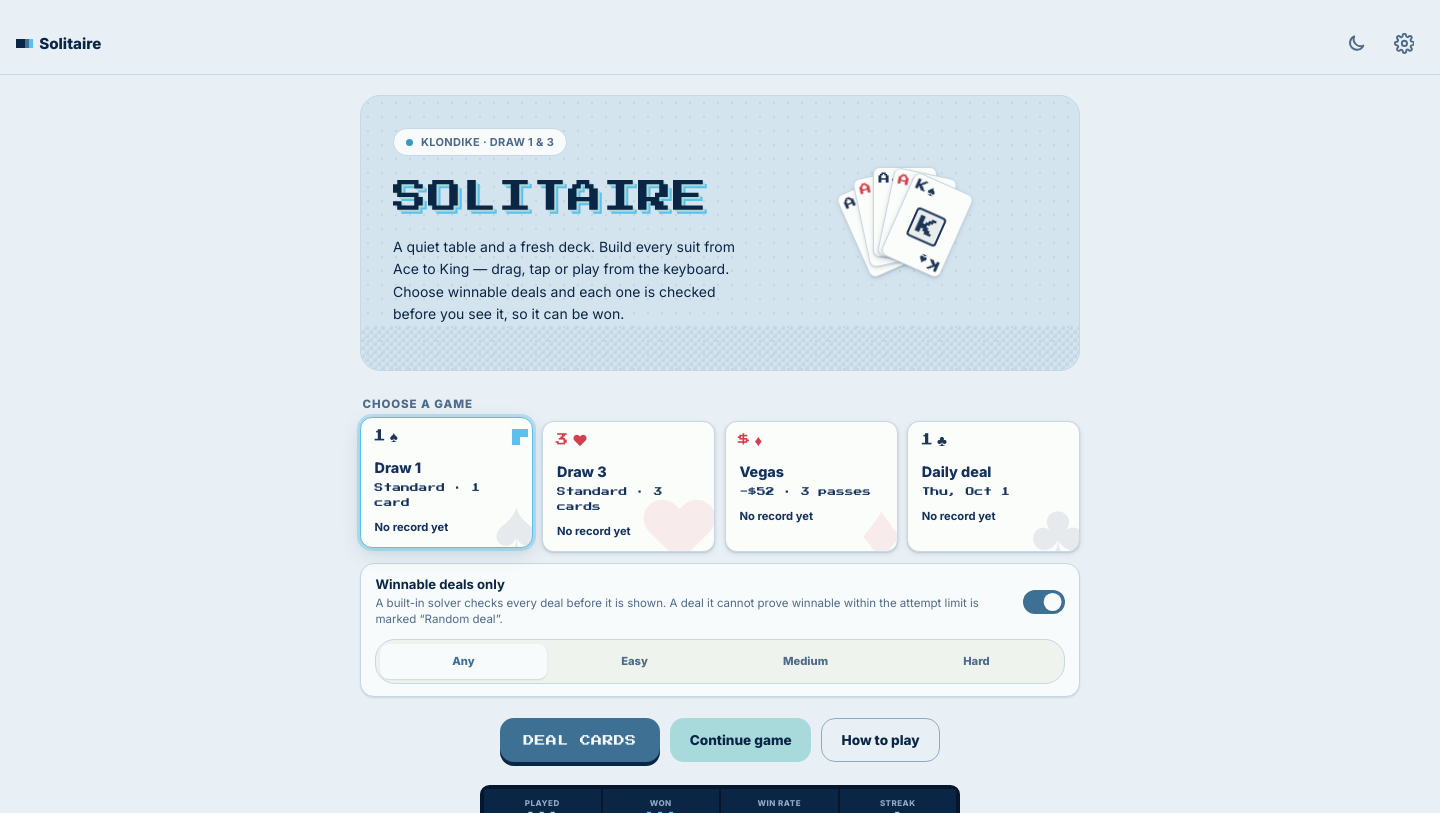
Scenario: Game frame › shows the mode-appropriate HUD values of the game in play, with the displayed score
Click the button "Continue game": (741, 740) left=670, top=718, right=811, bottom=762
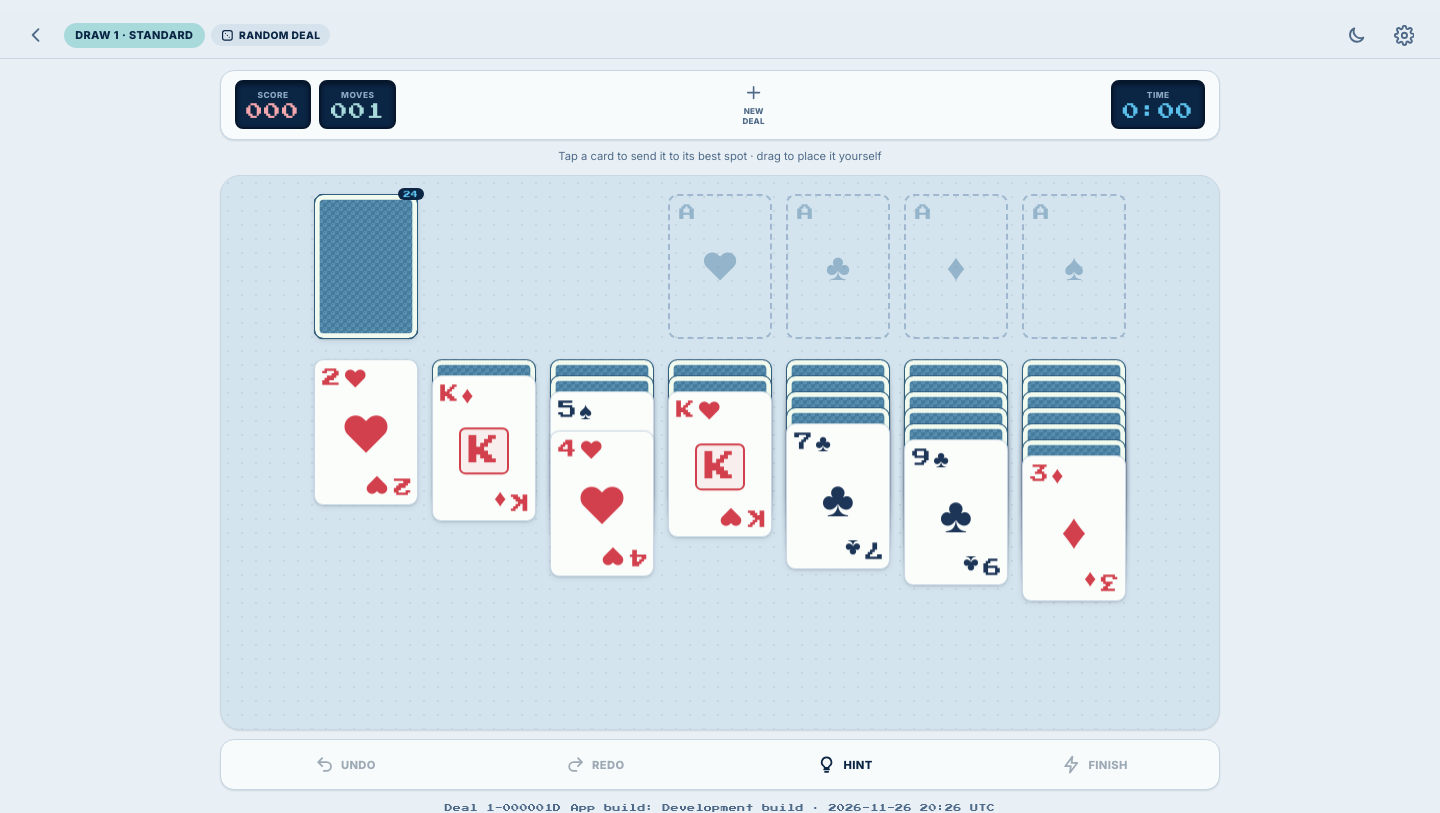
Expected: the text "000" is shown, left=246, top=103, right=300, bottom=120
Result: the text "001" is shown at left=331, top=103, right=385, bottom=120
